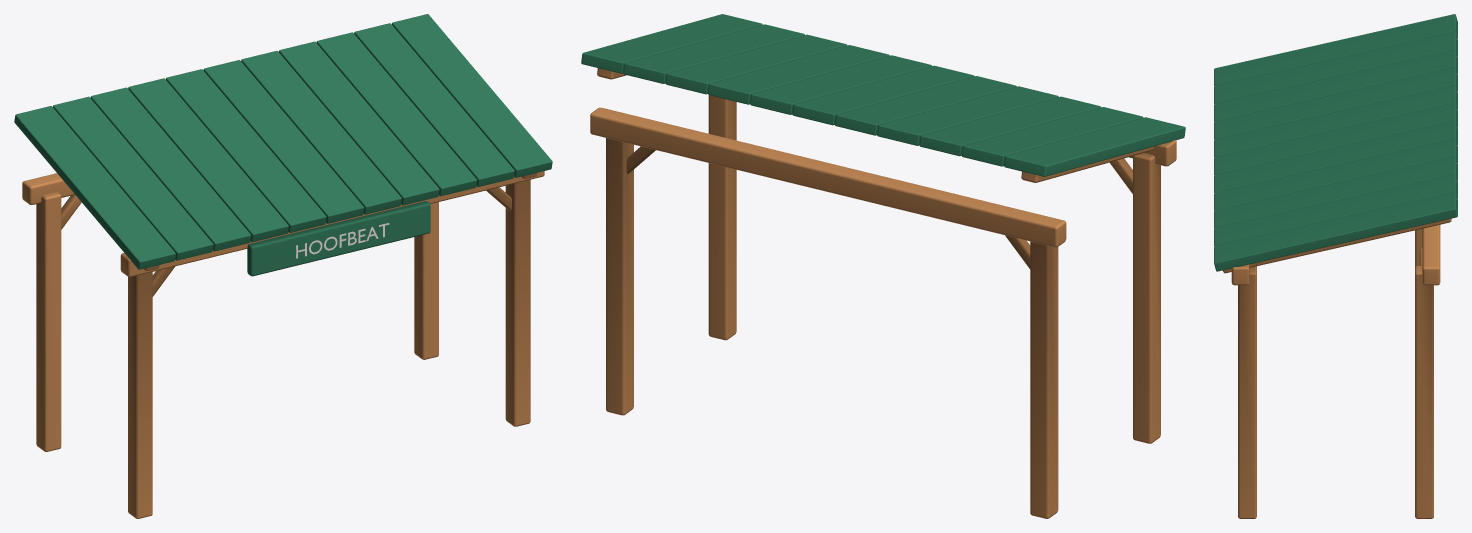
Rendered from Relay_Canopy.glb.
The picture shows the model from 3 angles, left to right: view 1: azimuth 30°, elevation 25°; view 2: azimuth 150°, elevation 25°; view 3: azimuth 270°, elevation 25°; orthographic projection. The views are drawn at different scales.
Parts seen in each view (by area): view 1: Teal roof panel, Teal roof panel.003, Teal roof panel.007, Teal roof panel.001, Teal roof panel.006, Teal roof panel.008, Teal roof panel.004, Teal roof panel.009, Teal roof panel.002, Teal roof panel.010, Teal roof panel.005, Canopy oak post.001 (+7 smaller); view 2: Canopy eave beam.001, Canopy oak post, Canopy oak post.001, Canopy oak post.003, Canopy oak post.002, Teal roof panel, Teal roof panel.003, Teal roof panel.005, Teal roof panel.010, Teal roof panel.002, Teal roof panel.004, Teal roof panel.008 (+4 smaller); view 3: Teal roof panel.010, Canopy oak post.003, Canopy oak post.002, Teal roof panel.004, Teal roof panel.007, Teal roof panel.009, Teal roof panel, Teal roof panel.003, Teal roof panel.005, Teal roof panel.006, Teal roof panel.008, Teal roof panel.001 (+4 smaller).
Boxes of the visible parts, box(x1,y1,x2,y2) form: Teal roof panel: box(14, 106, 175, 269); Teal roof panel.003: box(128, 78, 288, 242); Teal roof panel.007: box(279, 41, 439, 205); Teal roof panel.001: box(53, 96, 213, 260); Teal roof panel.006: box(241, 51, 401, 214); Teal roof panel.008: box(316, 32, 477, 196); Teal roof panel.004: box(166, 69, 326, 232); Teal roof panel.009: box(354, 23, 514, 186); Teal roof panel.002: box(90, 87, 251, 251); Teal roof panel.010: box(392, 14, 552, 177); Teal roof panel.005: box(203, 60, 364, 223); Canopy oak post.001: box(36, 192, 61, 451); Canopy eave beam.001: box(590, 107, 1066, 247); Canopy oak post: box(1133, 153, 1160, 443); Canopy oak post.001: box(1030, 241, 1058, 518); Canopy oak post.003: box(606, 138, 633, 415); Canopy oak post.002: box(708, 95, 736, 340); Teal roof panel: box(1004, 117, 1185, 176); Teal roof panel.003: box(877, 86, 1058, 145); Teal roof panel.005: box(792, 65, 974, 125); Teal roof panel.010: box(581, 14, 762, 73); Teal roof panel.002: box(919, 96, 1100, 156); Teal roof panel.004: box(835, 76, 1016, 135); Teal roof panel.008: box(665, 34, 847, 94); Teal roof panel.010: box(1214, 192, 1457, 271); Canopy oak post.003: box(1415, 266, 1433, 518); Canopy oak post.002: box(1238, 266, 1256, 518); Teal roof panel.004: box(1214, 85, 1457, 157); Teal roof panel.007: box(1214, 138, 1457, 210); Teal roof panel.009: box(1214, 174, 1457, 246); Teal roof panel: box(1214, 14, 1457, 86); Teal roof panel.003: box(1214, 67, 1457, 139); Teal roof panel.005: box(1214, 103, 1457, 174); Teal roof panel.006: box(1214, 120, 1457, 192); Teal roof panel.008: box(1214, 156, 1457, 228); Teal roof panel.001: box(1214, 31, 1457, 103).
Size of the model in its own units: 3.42 by 2.56 by 1.79.
